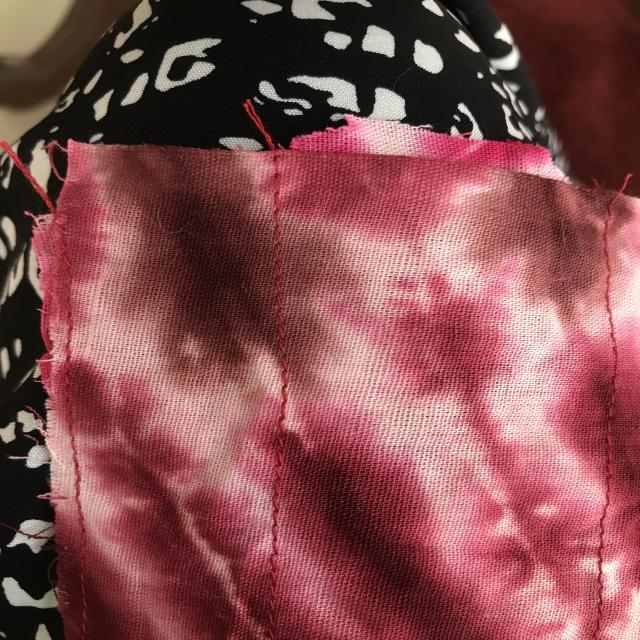good: (268, 363, 304, 448), (263, 488, 289, 560)
